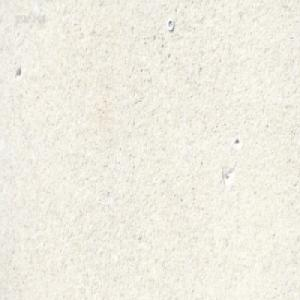Washer: (166, 17, 174, 31)
